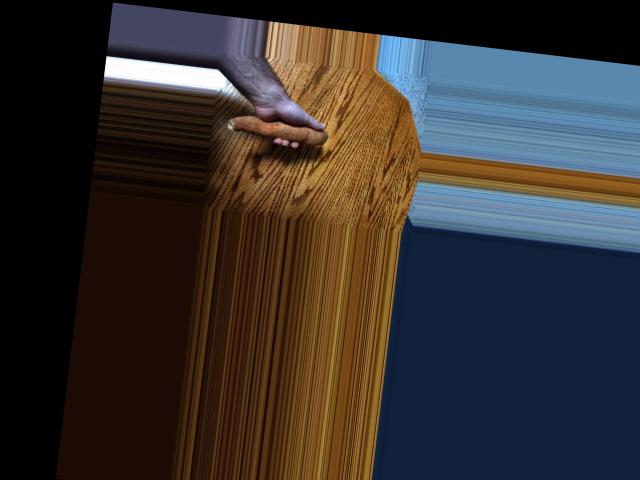sweet_potato: (224, 106, 337, 152)
